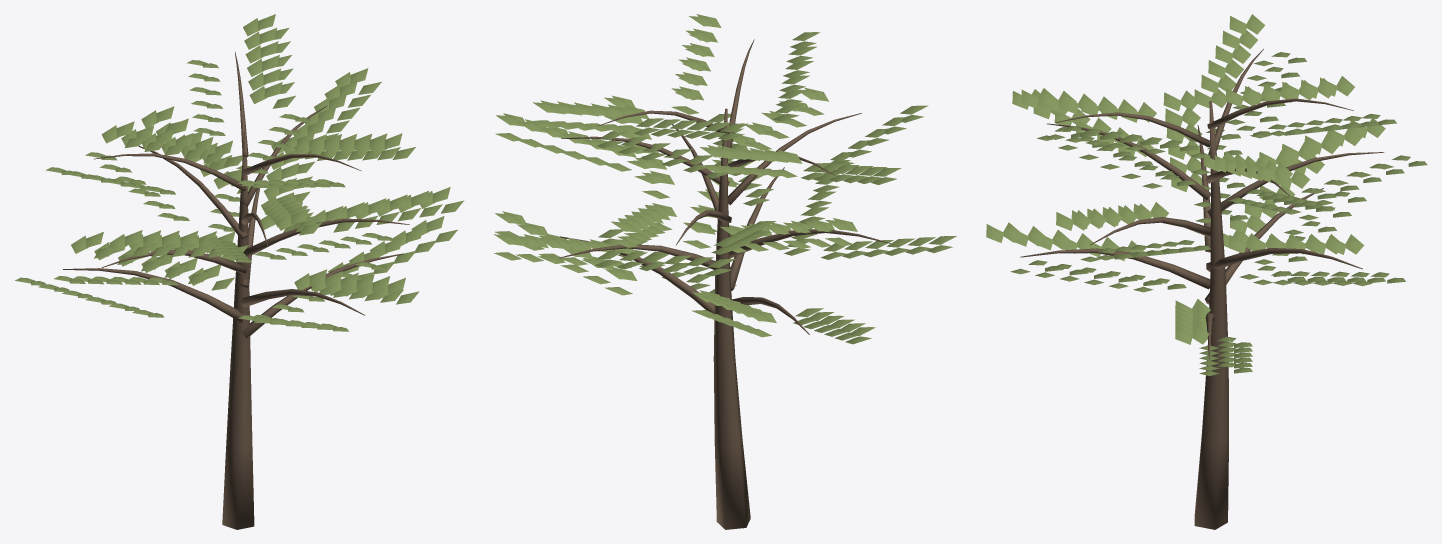
The model's file is street-lod2.glb.
3 views of the same model, side by side, from view 1: azimuth 30°, elevation 25°; view 2: azimuth 150°, elevation 25°; view 3: azimuth 270°, elevation 25° (orthographic). The views are drawn at different scales.
Parts seen in each view (by area): view 1: three dimensional leaves, rooted trunk and branch hierarchy; view 2: three dimensional leaves, rooted trunk and branch hierarchy; view 3: three dimensional leaves, rooted trunk and branch hierarchy.
Boxes of the visible parts, bbox=[...] form: three dimensional leaves: bbox=[15, 14, 464, 331]; rooted trunk and branch hierarchy: bbox=[63, 52, 409, 529]; three dimensional leaves: bbox=[494, 14, 956, 344]; rooted trunk and branch hierarchy: bbox=[559, 39, 890, 529]; three dimensional leaves: bbox=[986, 14, 1427, 375]; rooted trunk and branch hierarchy: bbox=[1020, 49, 1384, 529].
Bounding box in the file's own units: 6.49 × 6.37 × 5.49.
